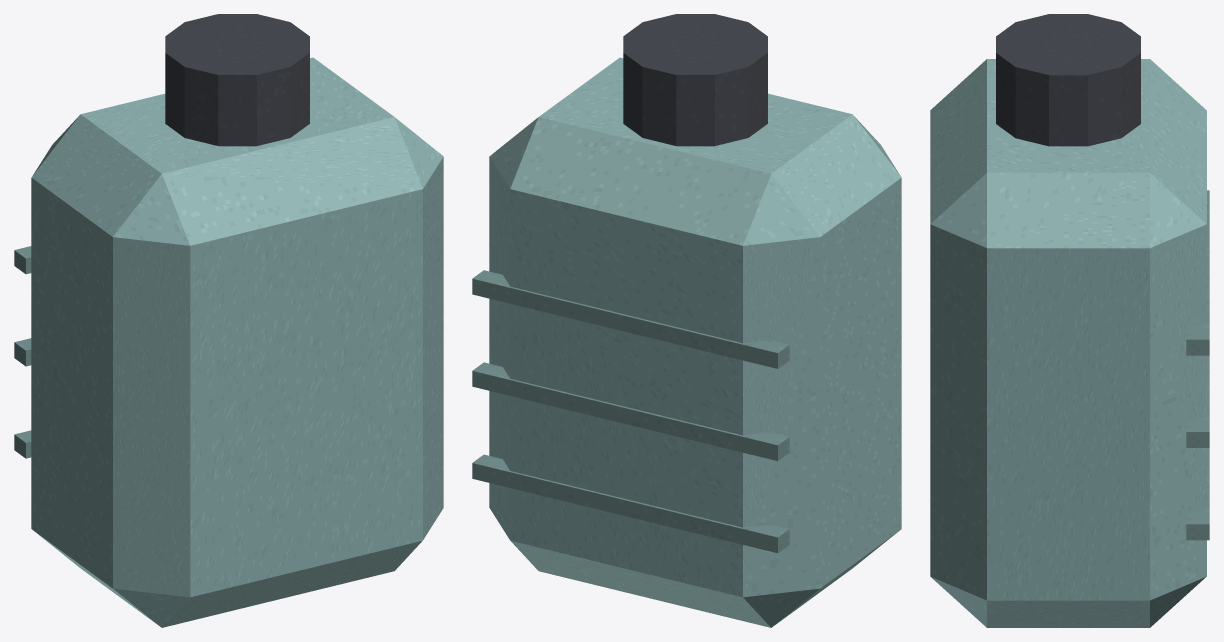
File: bottle_folding.glb
3 renders of one model, left to right at view 1: azimuth 30°, elevation 25°; view 2: azimuth 150°, elevation 25°; view 3: azimuth 270°, elevation 25°, orthographic.
Parts seen in each view (by area): view 1: block_flexible plastic pouch, block_threaded cap; view 2: block_flexible plastic pouch, block_accordion fold (×3), block_threaded cap; view 3: block_flexible plastic pouch, block_threaded cap, block_accordion fold (×3).
Boxes of the visible parts, left/top/right/bottom form: block_flexible plastic pouch: left=31, top=57, right=443, bottom=627; block_threaded cap: left=165, top=14, right=309, bottom=146; block_flexible plastic pouch: left=489, top=57, right=901, bottom=627; block_accordion fold (×3): left=472, top=270, right=789, bottom=553; block_threaded cap: left=623, top=14, right=767, bottom=146; block_flexible plastic pouch: left=930, top=59, right=1206, bottom=627; block_threaded cap: left=996, top=14, right=1140, bottom=146; block_accordion fold (×3): left=1186, top=190, right=1209, bottom=540.
Bounding box in the file's own units: 0.1299 × 0.197 × 0.0948.
Materials: 1 (1 with a texture image).
